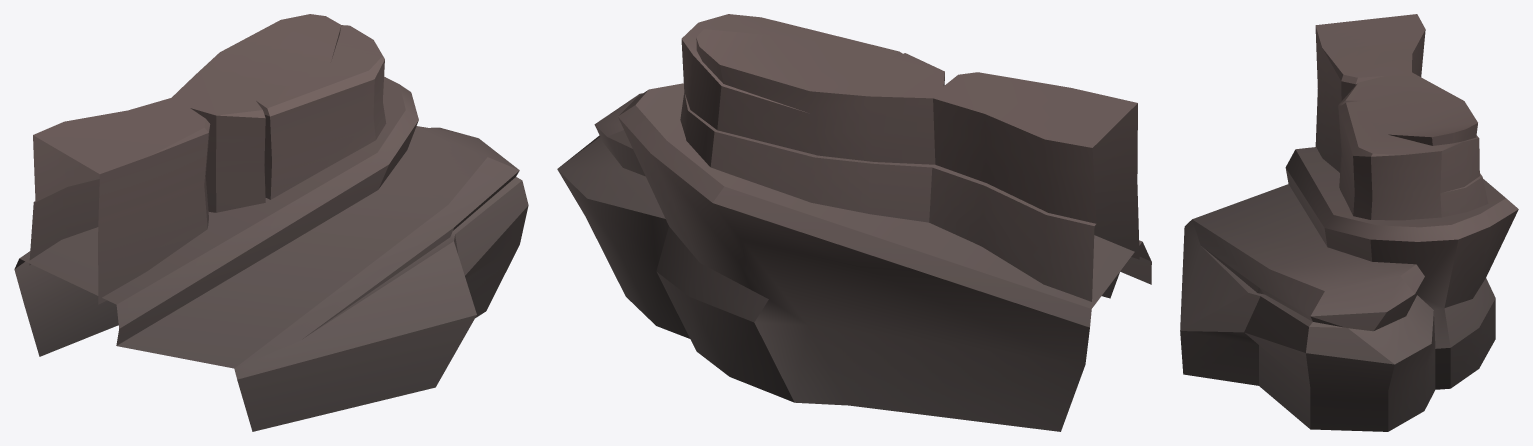
Rendered from bloc_rocheux03.FBX.
3 renders of one model, left to right at view 1: azimuth 30°, elevation 25°; view 2: azimuth 150°, elevation 25°; view 3: azimuth 270°, elevation 25°, orthographic. The views are drawn at different scales.
Visible parts, largest first — view 1: bloc_rocheux03; view 2: bloc_rocheux03; view 3: bloc_rocheux03.
Part boxes in pixels (x1,y1,x2,y2): bloc_rocheux03: [14, 14, 528, 431]; bloc_rocheux03: [557, 14, 1151, 431]; bloc_rocheux03: [1180, 14, 1518, 431].
Size of the model in its own units: 87.31 by 47.59 by 56.61.
